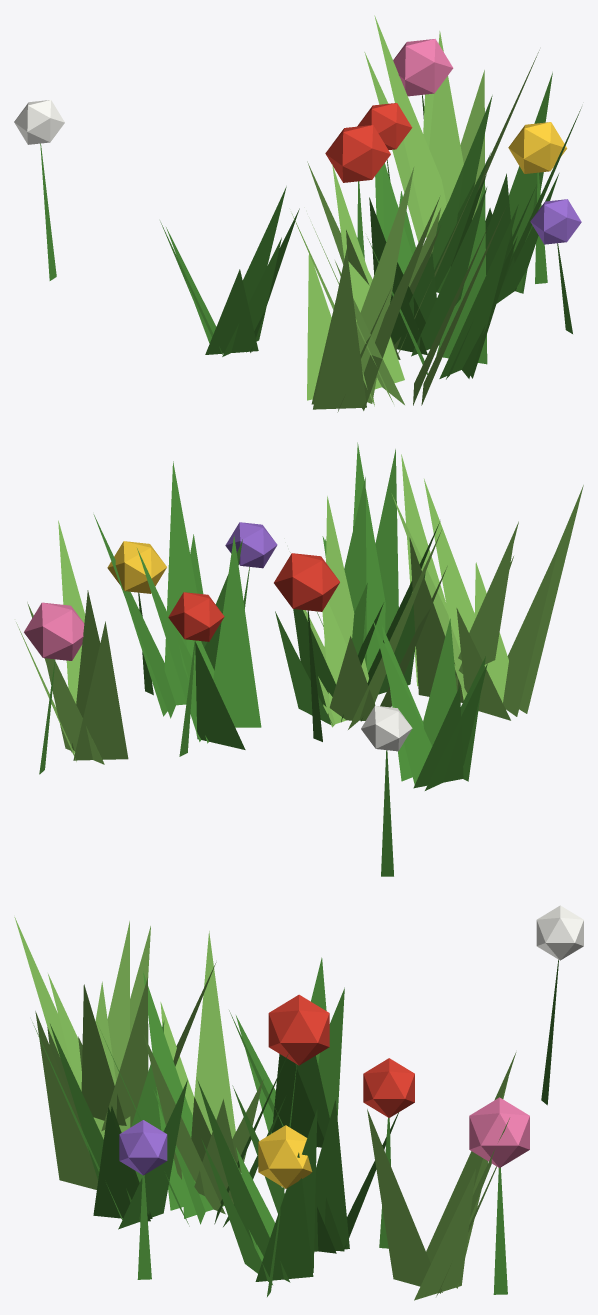
The model's file is tufos-capim.glb.
The picture shows the model from 3 angles, top to bottom: view 1: azimuth 30°, elevation 25°; view 2: azimuth 150°, elevation 25°; view 3: azimuth 270°, elevation 25°; orthographic projection. The views are drawn at different scales.
Visible parts, largest first — view 1: Capim, Flores, Hastes; view 2: Capim, Flores, Hastes; view 3: Capim, Flores, Hastes.
Boxes of the visible parts, x1,y1,x2,y2 form: Capim: (160, 15, 581, 412); Flores: (14, 39, 581, 244); Hastes: (40, 95, 572, 333); Capim: (16, 442, 583, 790); Flores: (24, 522, 412, 751); Hastes: (39, 567, 393, 876); Capim: (14, 917, 516, 1300); Flores: (119, 905, 583, 1188); Hastes: (137, 959, 558, 1296).
Bounding box in the file's own units: 0.9152 × 0.4195 × 0.9613.
